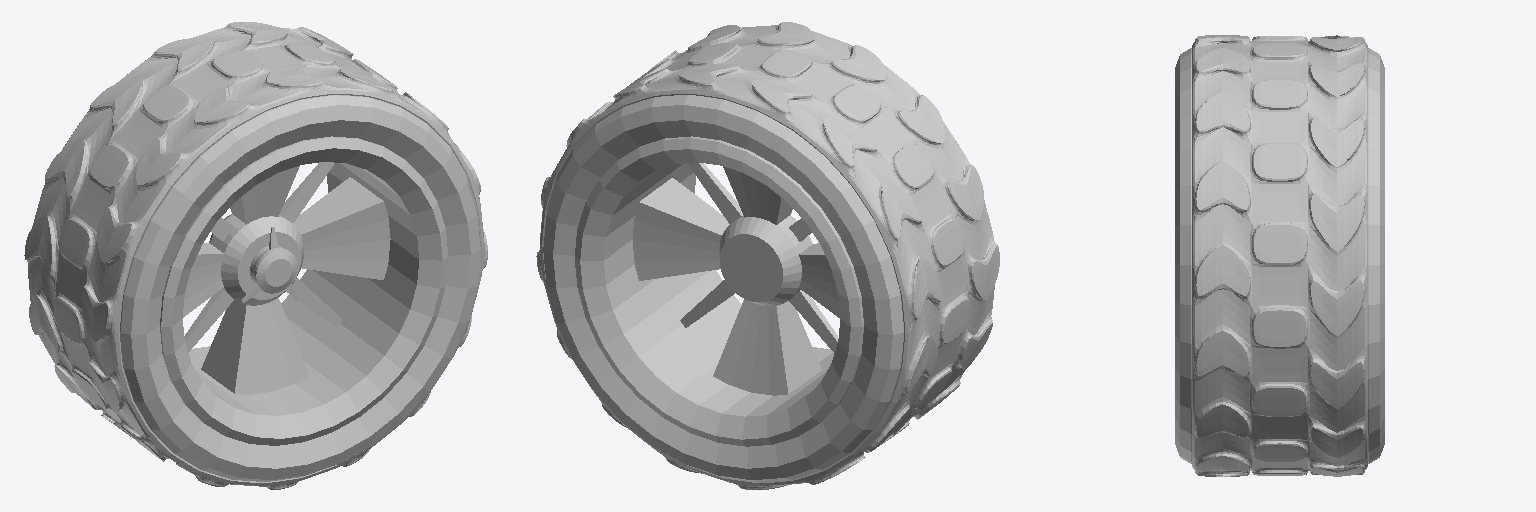
File: firstwheel.obj
The picture shows the model from 3 angles: view 1: azimuth 30°, elevation 25°; view 2: azimuth 150°, elevation 25°; view 3: azimuth 270°, elevation 25°; orthographic projection.
Visible parts, largest first — view 1: Cylinder, Cylinder.001; view 2: Cylinder, Cylinder.001; view 3: Cylinder.001, Cylinder.
Part boxes in pixels (bbox=[...]): Cylinder: bbox=[120, 95, 480, 481]; Cylinder.001: bbox=[24, 22, 487, 489]; Cylinder: bbox=[543, 95, 903, 481]; Cylinder.001: bbox=[536, 22, 999, 489]; Cylinder.001: bbox=[1192, 35, 1367, 476]; Cylinder: bbox=[1175, 48, 1384, 463].
Bounding box in the file's own units: 3.84 × 3.84 × 1.83.